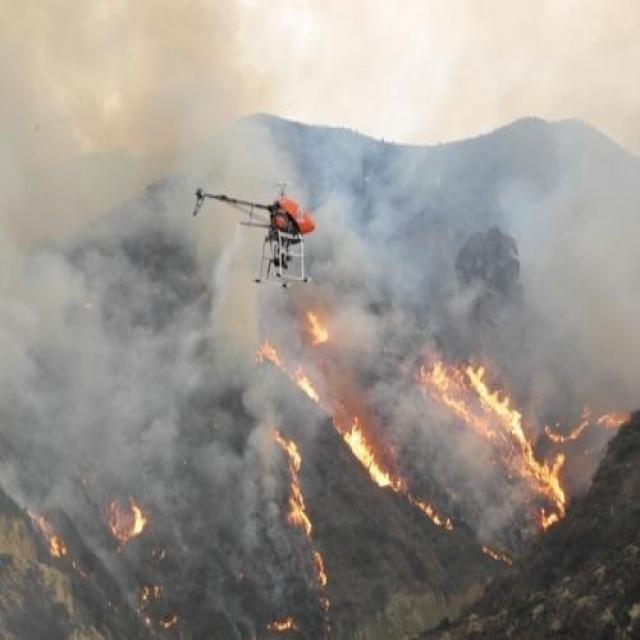Fire: (416, 352, 589, 532), (340, 412, 402, 494), (272, 428, 312, 536), (105, 498, 150, 541), (26, 510, 64, 560), (306, 307, 333, 347), (478, 544, 514, 568), (257, 338, 283, 369), (294, 374, 320, 403), (314, 551, 328, 587), (272, 612, 296, 632)
Smoke: (1, 1, 639, 640)
